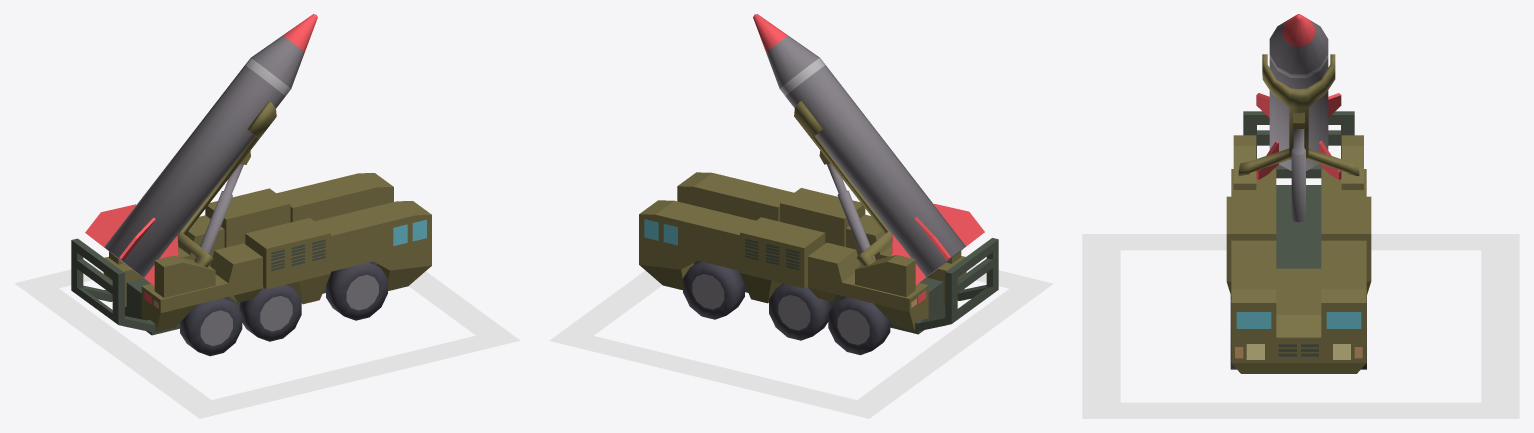
Rendered from NuclearMissle.fbx.
3 renders of one model, left to right at view 1: azimuth 30°, elevation 25°; view 2: azimuth 150°, elevation 25°; view 3: azimuth 270°, elevation 25°, orthographic. The views are drawn at different scales.
Visible parts, largest first — view 1: Nuclear Missle; view 2: Nuclear Missle; view 3: Nuclear Missle.
Boxes of the visible parts, <box> form: Nuclear Missle: <box>15,14,520,418</box>; Nuclear Missle: <box>549,14,1053,418</box>; Nuclear Missle: <box>1082,14,1519,418</box>.
Bounding box in the file's own units: 248 × 205 × 238.
